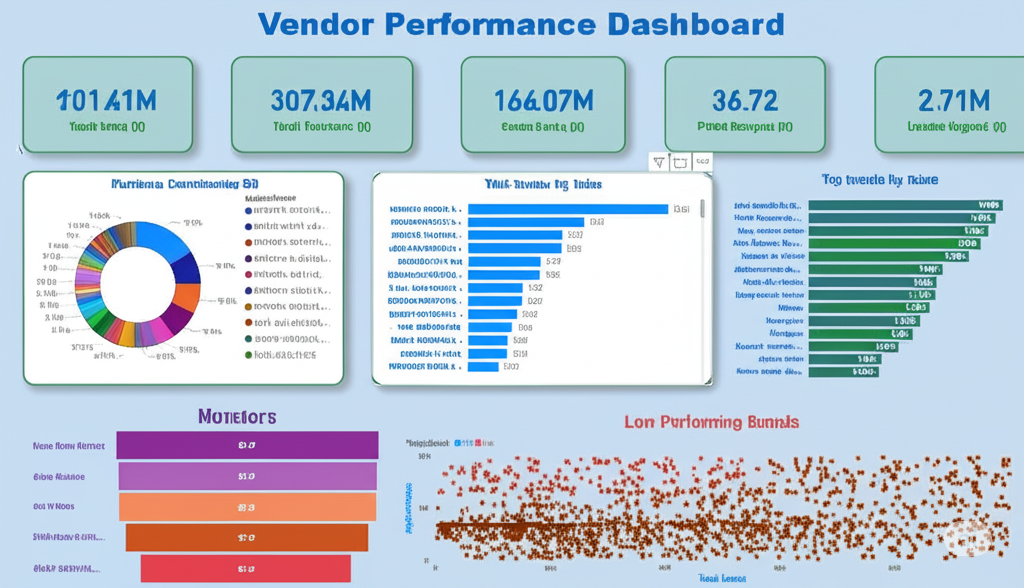

The page's visual inventory and layout, read from the dashboard file:
{"tool":"powerbi","page":{"name":"Page 1","canvas":[1650,950],"ordinal":0},"visuals":[{"type":"card","fields":{"Values":["vendor_sales_summary.Total Sales ($)"]},"box":[23.8,86.2,271.2,152.5],"z":0},{"type":"card","fields":{"Values":["vendor_sales_summary.Total Purchase ($)"]},"box":[355,86.2,288.8,152.5],"z":1000},{"type":"card","fields":{"Values":["vendor_sales_summary.Gross Profit ($)"]},"box":[720,86.2,261.2,152.5],"z":2000},{"type":"card","fields":{"Values":["vendor_sales_summary.Profit Margin (%)"]},"box":[1042.5,86.2,255,152.5],"z":3000},{"type":"card","fields":{"Values":["Sum(vendor_sales_summary.Unsold Capital (S))"]},"box":[1375,86.2,257.5,152.5],"z":4000},{"type":"donutChart","title":"Purchase Contribution (%)","fields":{"Y":["PurchaseContribution.Purchase Contriution (%)"],"Category":["PurchaseContribution.VendorName"]},"box":[23.8,267.5,512.5,340],"z":5000},{"type":"clusteredBarChart","title":"Total Vendor By Sales","fields":{"Y":["Sum(vendor_sales_summary.TotalSalesDollars)"],"Category":["vendor_sales_summary.VendorName"]},"box":[571.2,268.8,538.8,338.8],"z":6000},{"type":"textbox","title":"Vendor Performance Dashboard","box":[391.2,0,867.5,111.2],"z":7000},{"type":"clusteredBarChart","title":"Top brands By Sales","fields":{"Category":["vendor_sales_summary.Description"],"Y":["vendor_sales_summary.Total Sales ($)"]},"box":[1135,268.8,497.5,338.8],"z":8000},{"type":"funnel","title":"Low Performing Vendors","fields":{"Category":["LowTurnoverVendor.VendorName"],"Y":["Avg(LowTurnoverVendor.AvgStockTurnOver)"]},"box":[23.8,640,580,287.5],"z":9000},{"type":"scatterChart","title":"Low Performing Brands","fields":{"Category":["BrandPerformance.Description"],"X":["Sum(BrandPerformance.TotalSales)"],"Y":["Avg(BrandPerformance.AvgProfitMargin)"],"Series":["BrandPerformance.TargetBrand"]},"box":[628.8,648.8,978.8,278.8],"z":10000}]}

Visuals, with their boxes in screenshot pixels (x1, y1, x2, y2), scaled from the page's 1650x950 canvas onto the 1024x588 screenshot:
card - vendor_sales_summary.Total Sales ($): bbox(15, 53, 183, 148)
card - vendor_sales_summary.Total Purchase ($): bbox(220, 53, 400, 148)
card - vendor_sales_summary.Gross Profit ($): bbox(447, 53, 609, 148)
card - vendor_sales_summary.Profit Margin (%): bbox(647, 53, 805, 148)
card - Sum(vendor_sales_summary.Unsold Capital (S)): bbox(853, 53, 1013, 148)
"Purchase Contribution (%)" donutChart: bbox(15, 166, 333, 376)
"Total Vendor By Sales" clusteredBarChart: bbox(354, 166, 689, 376)
"Vendor Performance Dashboard" textbox: bbox(243, 0, 781, 69)
"Top brands By Sales" clusteredBarChart: bbox(704, 166, 1013, 376)
"Low Performing Vendors" funnel: bbox(15, 396, 375, 574)
"Low Performing Brands" scatterChart: bbox(390, 402, 998, 574)
